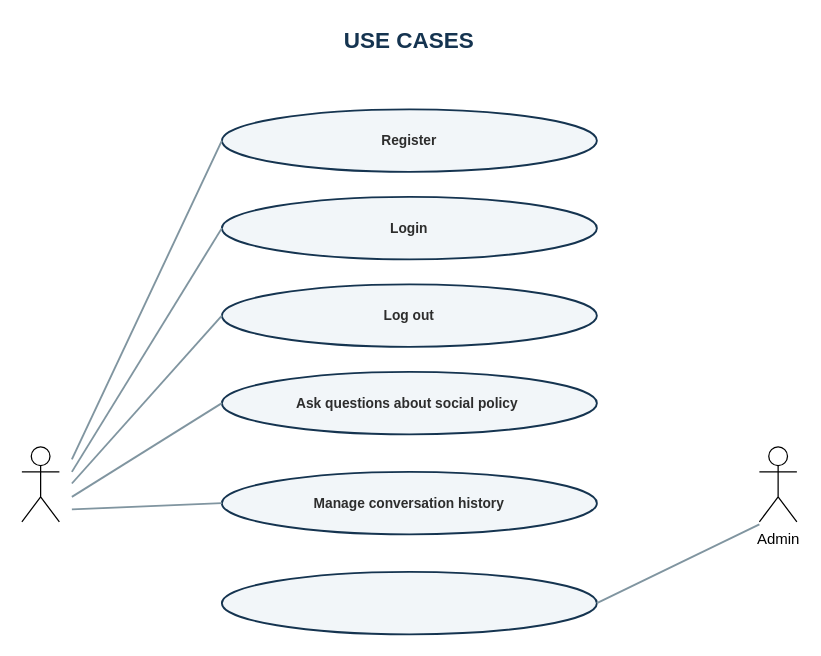
This 821x656 diagram has some shape labels left out. The shapes that lost their labels are listed below. From the top down, each one's centre as x and y in pixels, then its label:
point (40, 484): User
point (408, 602): Upload PDF
